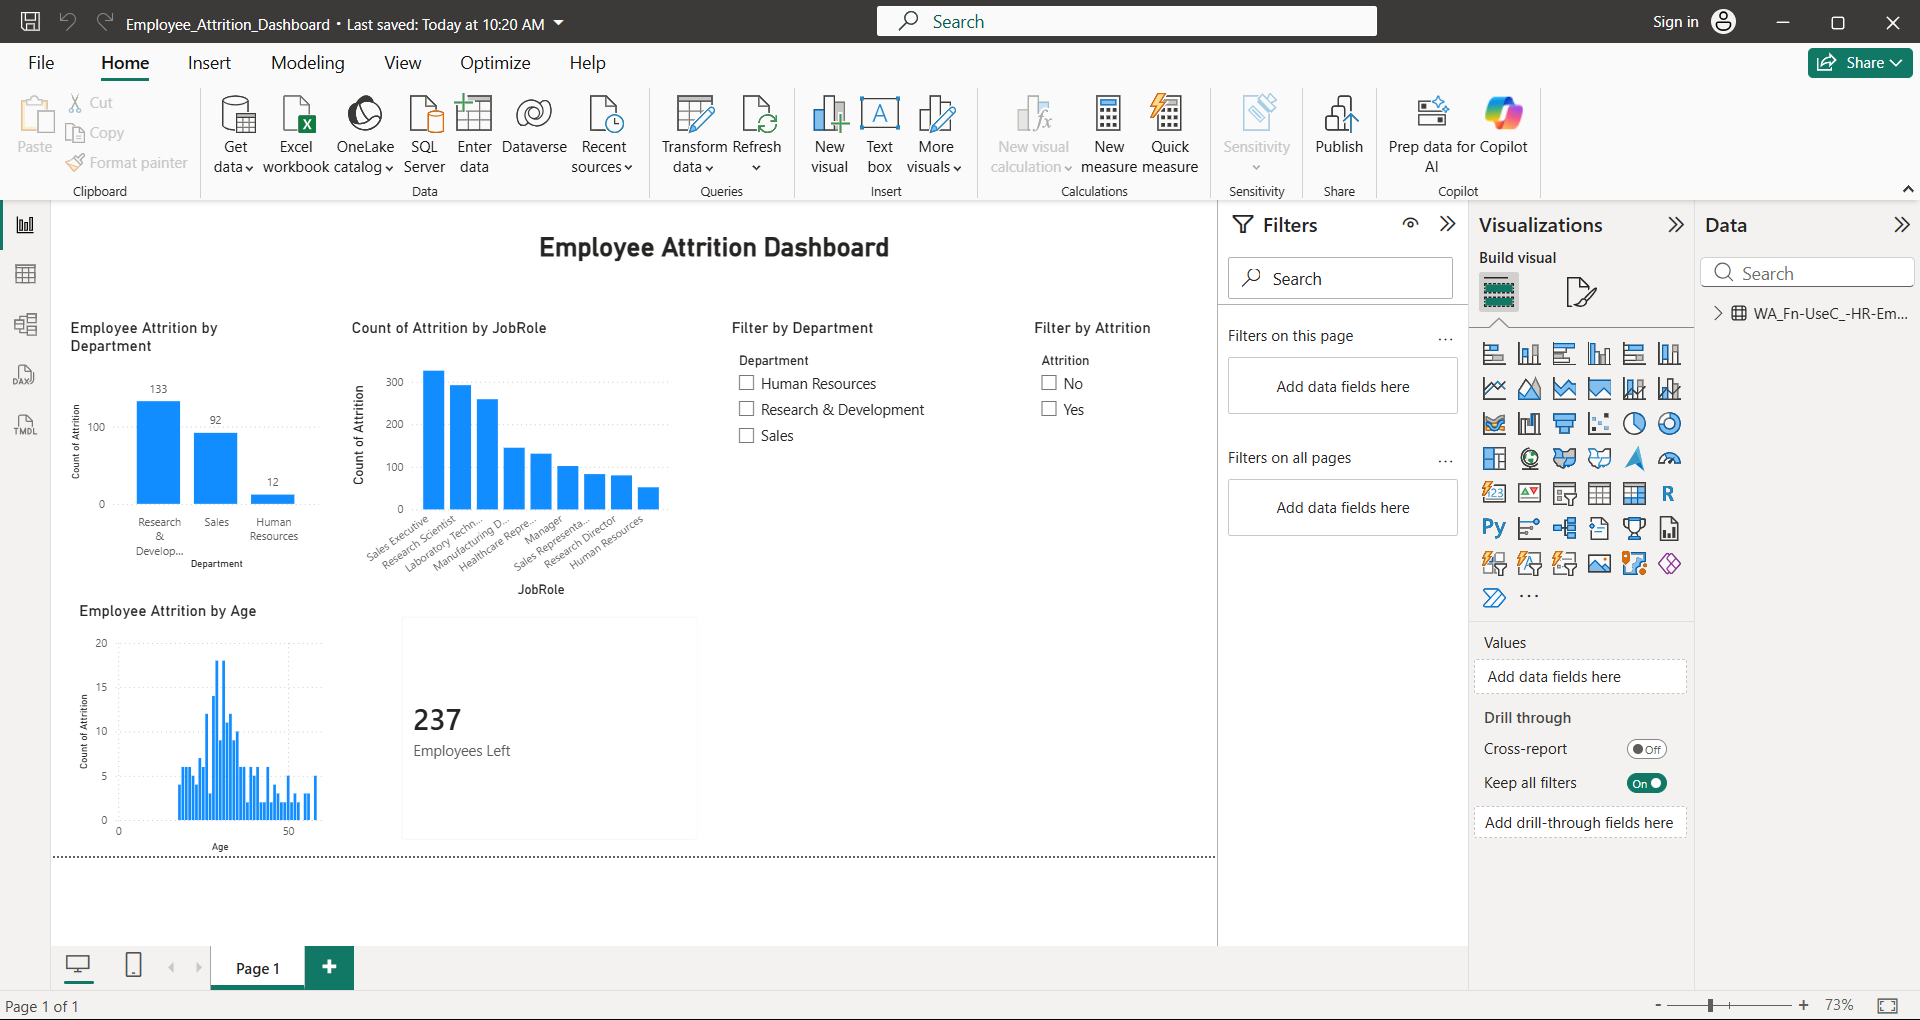

The page's visual inventory and layout, read from the dashboard file:
{"tool":"powerbi","page":{"name":"Page 1","canvas":[1280,720],"ordinal":0},"visuals":[{"type":"columnChart","title":"Employee Attrition by Department","fields":{"Category":["WA_Fn-UseC_-HR-Employee-Attrition.Department"],"Y":["CountNonNull(WA_Fn-UseC_-HR-Employee-Attrition.Attrition)"]},"box":[16.5,130.4,283.6,280],"z":0},{"type":"clusteredColumnChart","title":"Employee Attrition by Age","fields":{"Category":["WA_Fn-UseC_-HR-Employee-Attrition.Age"],"Y":["CountNonNull(WA_Fn-UseC_-HR-Employee-Attrition.Attrition)"]},"box":[26.1,440.5,284,280],"z":1000},{"type":"columnChart","fields":{"Category":["WA_Fn-UseC_-HR-Employee-Attrition.JobRole"],"Y":["CountNonNull(WA_Fn-UseC_-HR-Employee-Attrition.Attrition)"]},"box":[325.2,130.4,359.5,310.1],"z":2000},{"type":"cardVisual","fields":{"Data":["Sum(WA_Fn-UseC_-HR-Employee-Attrition.EmployeeCount)"]},"box":[367.8,440.5,360.9,279.9],"z":3000},{"type":"slicer","title":"Filter by Department","fields":{"Values":["WA_Fn-UseC_-HR-Employee-Attrition.Department"]},"box":[742.4,130.4,359.5,262.1],"z":4000},{"type":"slicer","title":"Filter by Attrition","fields":{"Values":["WA_Fn-UseC_-HR-Employee-Attrition.Attrition"]},"box":[1074.4,130.4,205.8,225],"z":5000},{"type":"textbox","box":[742,440,360,280],"z":6000},{"type":"textbox","title":"Employee Attrition Dashboard","box":[531,34.3,477.5,48],"z":7000}]}

Visuals, with their boxes on the page's 1280x720 design canvas (x1, y1, x2, y2). These are canvas units, not pixel positions in the 1920x1020 screenshot, which may show the page scaled, cropped or inside an application window:
"Employee Attrition by Department" columnChart: x1=16 y1=130 x2=300 y2=410
"Employee Attrition by Age" clusteredColumnChart: x1=26 y1=440 x2=310 y2=720
columnChart - WA_Fn-UseC_-HR-Employee-Attrition.JobRole x CountNonNull(WA_Fn-UseC_-HR-Employee-Attrition.Attrition): x1=325 y1=130 x2=685 y2=440
cardVisual - Sum(WA_Fn-UseC_-HR-Employee-Attrition.EmployeeCount): x1=368 y1=440 x2=729 y2=720
"Filter by Department" slicer: x1=742 y1=130 x2=1102 y2=392
"Filter by Attrition" slicer: x1=1074 y1=130 x2=1280 y2=355
textbox: x1=742 y1=440 x2=1102 y2=720
"Employee Attrition Dashboard" textbox: x1=531 y1=34 x2=1008 y2=82
